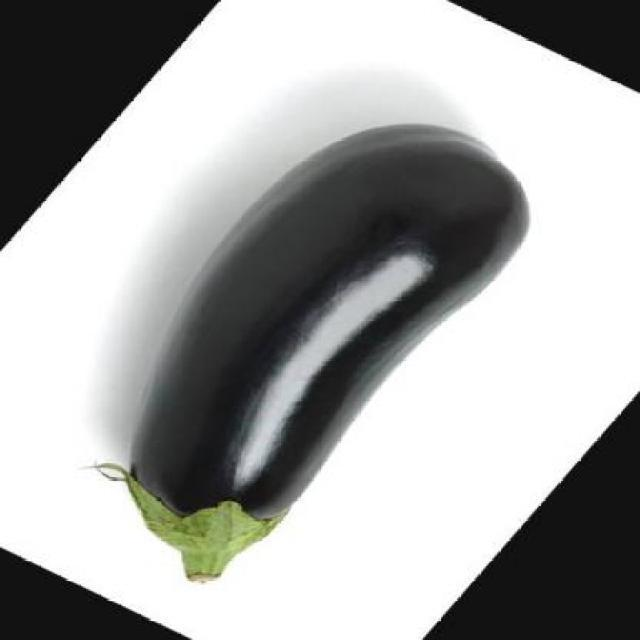eggplant: (116, 117, 539, 596)
